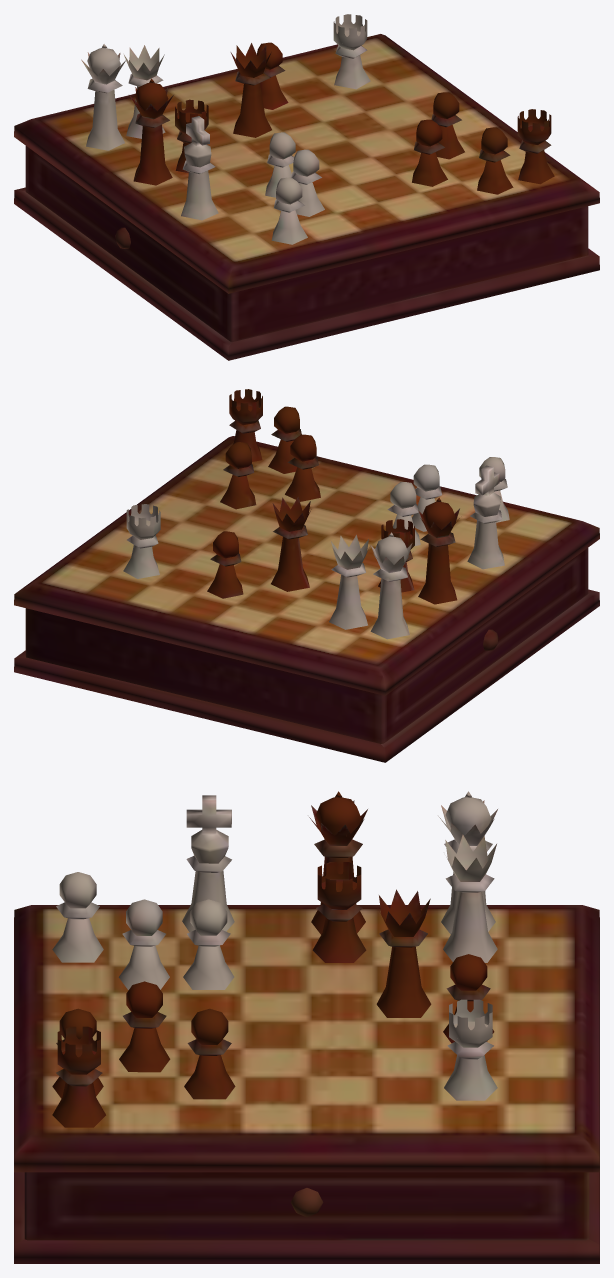
3 renders of one model, top to bottom at view 1: azimuth 30°, elevation 25°; view 2: azimuth 150°, elevation 25°; view 3: azimuth 270°, elevation 25°, orthographic. The views are drawn at different scales.
Bounding box in the file's own units: 7.14 × 3.31 × 6.95.
1 material, 1 textured.
